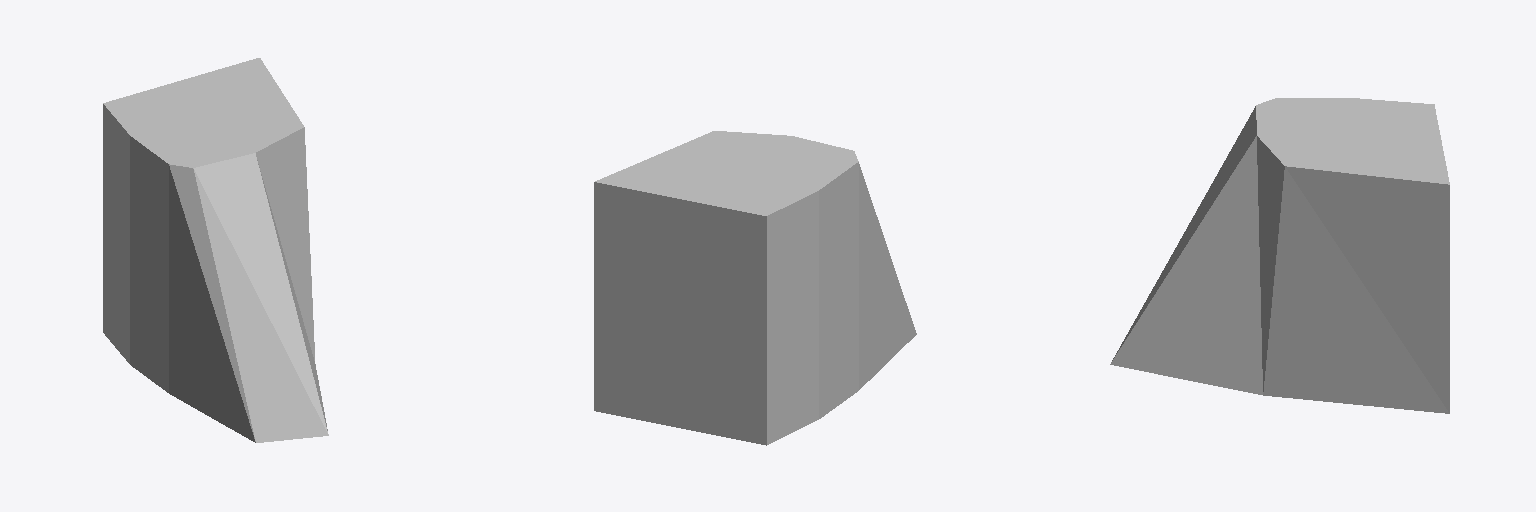
Rendered from Platform right.obj.
The picture shows the model from 3 angles: view 1: azimuth 30°, elevation 25°; view 2: azimuth 150°, elevation 25°; view 3: azimuth 270°, elevation 25°; orthographic projection.
Parts seen in each view (by area): view 1: Platform right; view 2: Platform right; view 3: Platform right.
Part boxes in pixels (x1,y1,x2,y2): Platform right: (103, 58, 328, 442); Platform right: (594, 131, 916, 445); Platform right: (1110, 98, 1449, 413).
Bounding box in the file's own units: 30.53 × 37.61 × 50.57.